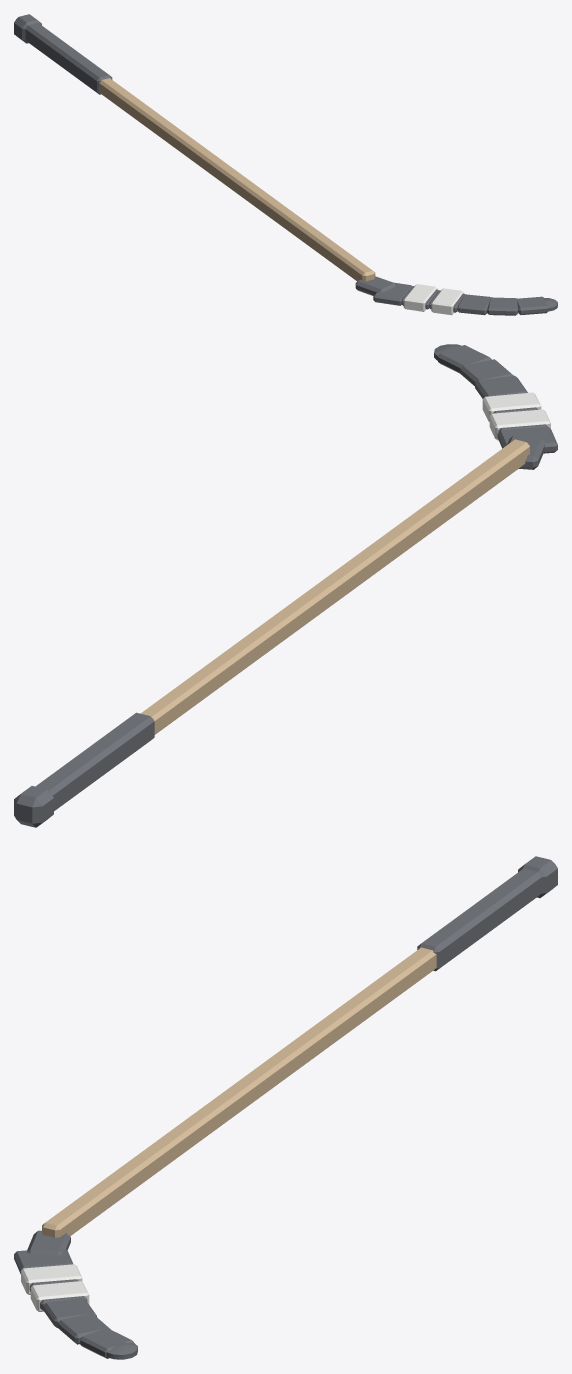
File: ice-hockey-arena-and-locker-room-hockey-stick-toe-curv-277a318d__33717.glb
3 views of the same model, one above another, from view 1: azimuth 30°, elevation 25°; view 2: azimuth 150°, elevation 25°; view 3: azimuth 330°, elevation 25° (orthographic). The views are drawn at different scales.
Parts seen in each view (by area): view 1: hockey-stick-toe-curve; view 2: hockey-stick-toe-curve; view 3: hockey-stick-toe-curve.
Boxes of the visible parts, box(x1,y1,x2,y2) form: hockey-stick-toe-curve: box(14, 14, 557, 315); hockey-stick-toe-curve: box(14, 344, 557, 827); hockey-stick-toe-curve: box(14, 856, 557, 1359).
Size of the model in its own units: 0.2971 by 0.048 by 1.58.
